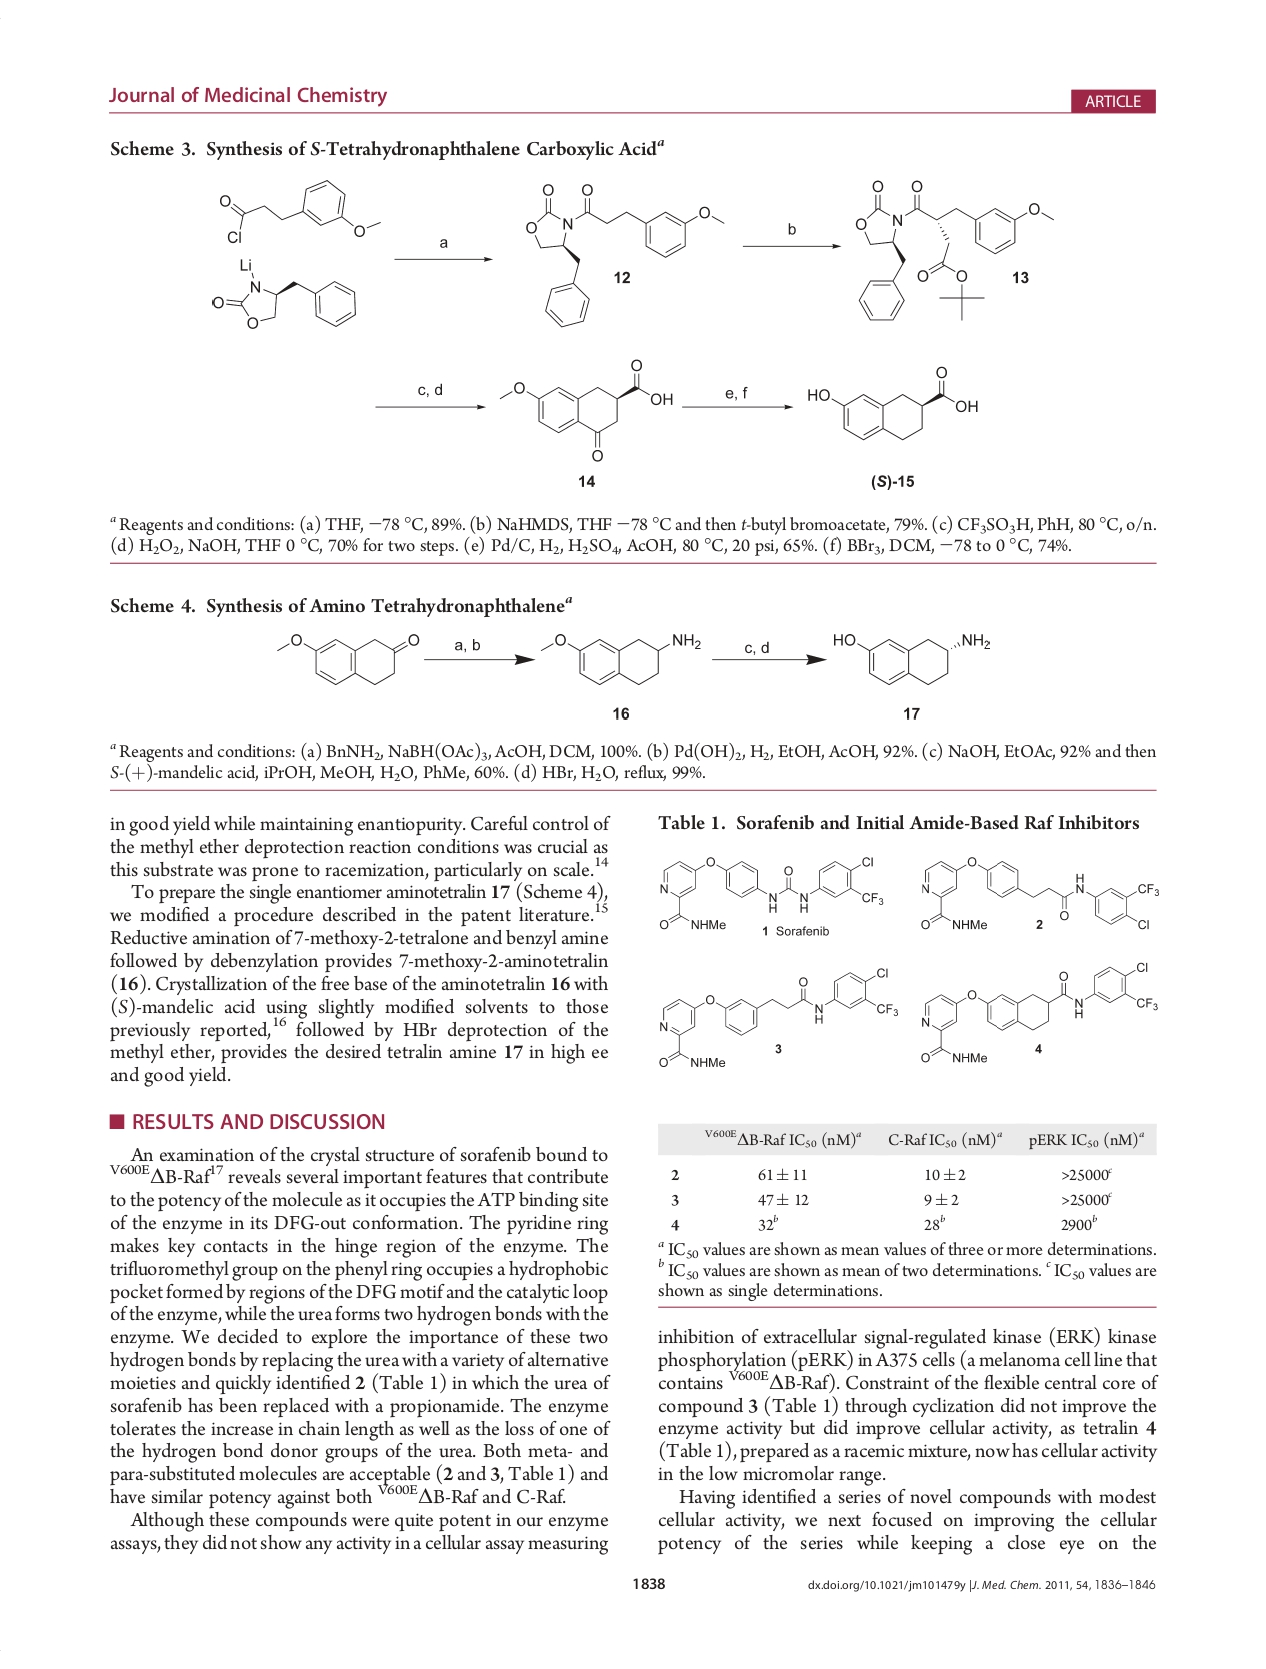exist_molecular: (523, 176, 726, 330), (848, 176, 1055, 324), (652, 964, 902, 1075), (914, 956, 1162, 1067), (914, 851, 1166, 938), (493, 354, 676, 461), (652, 850, 884, 934), (806, 356, 981, 448), (210, 253, 363, 334), (215, 174, 382, 246), (830, 624, 995, 690), (540, 626, 705, 688), (269, 628, 422, 686)
